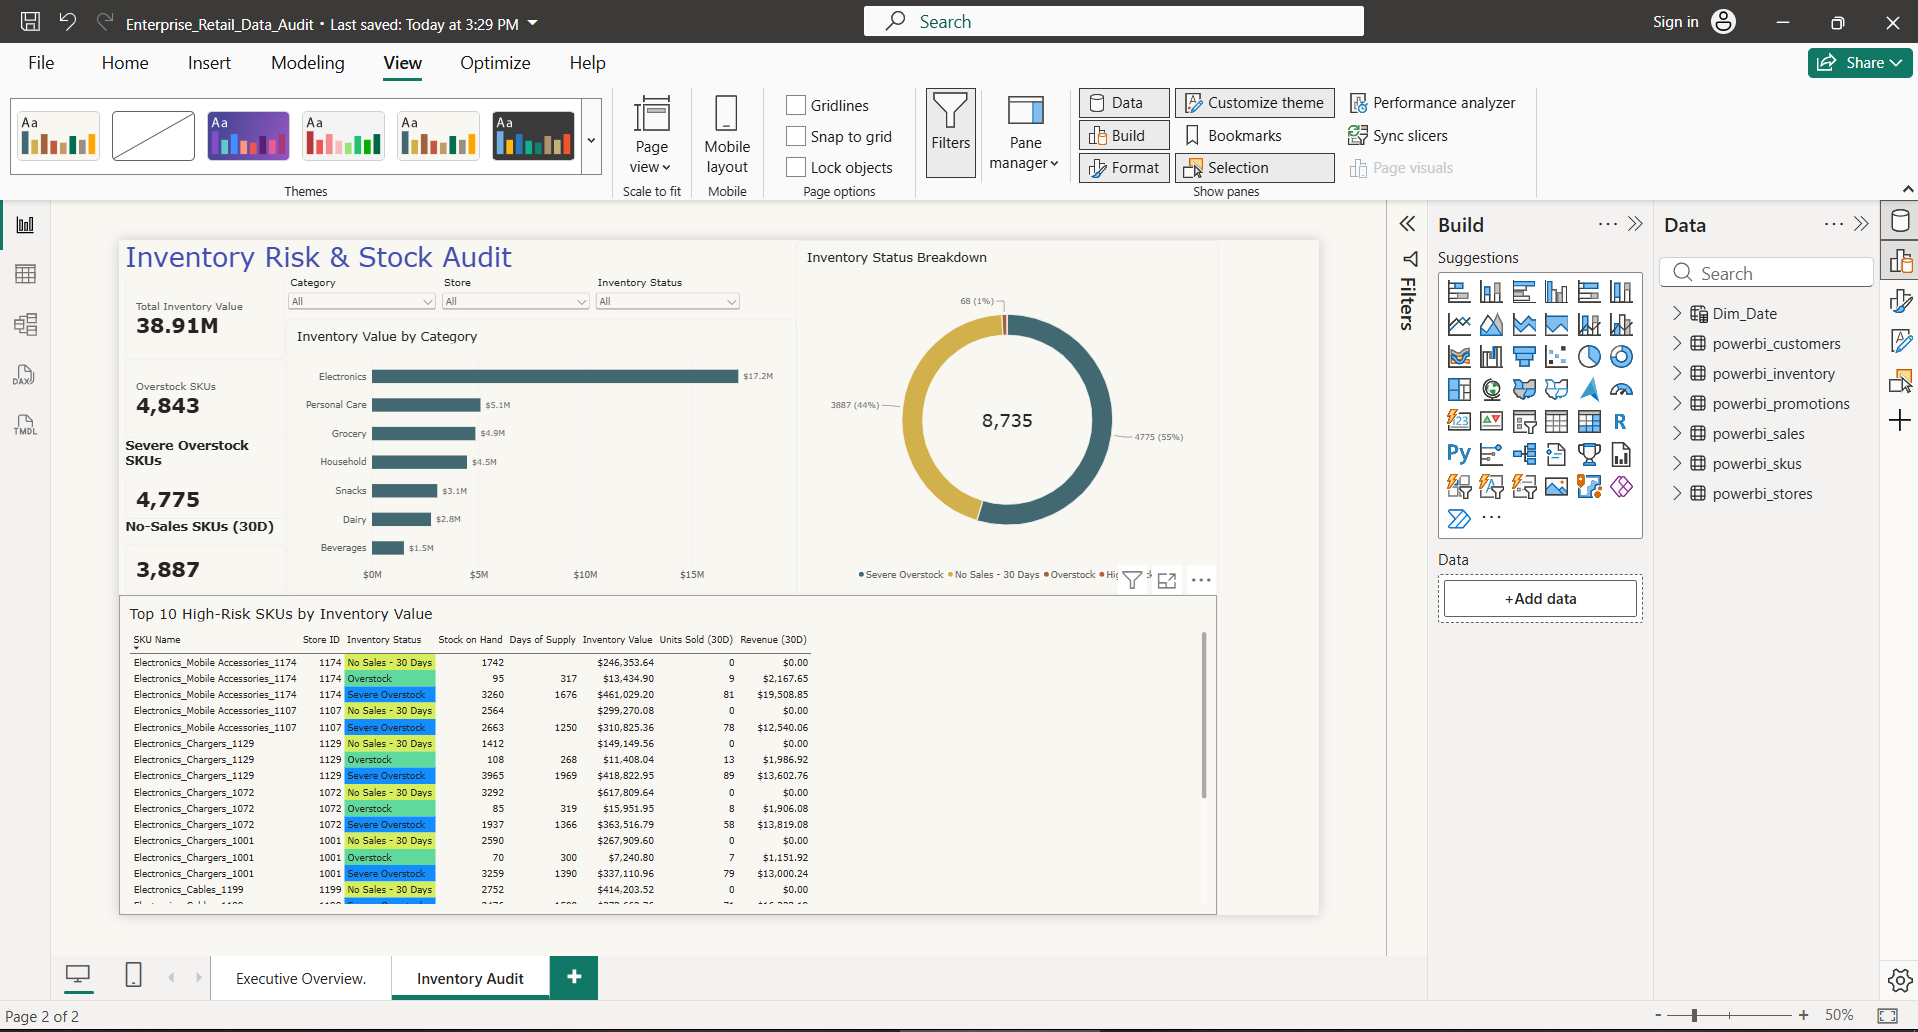

Layout of this report page (visuals, bound fields, positions):
{"tool":"powerbi","page":{"name":"Inventory Audit","canvas":[1920,1080],"ordinal":1},"visuals":[{"type":"textbox","box":[10.8,0,584.3,64.9],"z":0},{"type":"cardVisual","fields":{"Data":["powerbi_sales.Total Inventory Value"]},"box":[10,60,255,130],"z":1000},{"type":"cardVisual","title":"Severe Overstock SKUs","fields":{"Data":["Dim_Date.Severe Overstock Count Full"]},"box":[10,316,256,130],"z":2000},{"type":"cardVisual","title":"No-Sales SKUs (30D)","fields":{"Data":["Dim_Date.No Sales 30 Days Count Full"]},"box":[10,446,256,120],"z":3000},{"type":"cardVisual","fields":{"Data":["Dim_Date.Overstock Count Full"]},"box":[10,190,256,126],"z":4000},{"type":"clusteredBarChart","title":"Inventory Value by Category","fields":{"Category":["powerbi_inventory.category"],"Y":["Sum(powerbi_inventory.inventory_cost_value)"]},"box":[268,126,816,440],"z":5000},{"type":"donutChart","title":"Inventory Status Breakdown","fields":{"Category":["powerbi_inventory.inventory_status"],"Y":["CountNonNull(powerbi_inventory.sku_id)"]},"box":[1083.3,0,675,566.7],"z":6000},{"type":"tableEx","title":"Top 10 High-Risk SKUs by Inventory Value","fields":{"Values":["powerbi_inventory.sku_name","powerbi_inventory.sku_id","powerbi_inventory.inventory_status","Sum(powerbi_inventory.stock_on_hand)","Avg(powerbi_inventory.days_of_supply)","Sum(powerbi_inventory.inventory_cost_value)","Sum(powerbi_inventory.units_sold_30d)","Sum(powerbi_inventory.revenue_30d)"]},"box":[0,568.3,1758.3,511.7],"z":7000},{"type":"slicer","fields":{"Values":["powerbi_inventory.category"]},"box":[266,58,246,68],"z":9000},{"type":"slicer","fields":{"Values":["powerbi_inventory.store_id"]},"box":[512,58,246,68],"z":10000},{"type":"slicer","fields":{"Values":["powerbi_inventory.inventory_status"]},"box":[758,58,240,68],"z":11000}]}

Visuals, with their boxes on the page's 1920x1080 design canvas (x1, y1, x2, y2). These are canvas units, not pixel positions in the 1918x1032 screenshot, which may show the page scaled, cropped or inside an application window:
textbox: (11,0,595,65)
cardVisual - powerbi_sales.Total Inventory Value: (10,60,265,190)
"Severe Overstock SKUs" cardVisual: (10,316,266,446)
"No-Sales SKUs (30D)" cardVisual: (10,446,266,566)
cardVisual - Dim_Date.Overstock Count Full: (10,190,266,316)
"Inventory Value by Category" clusteredBarChart: (268,126,1084,566)
"Inventory Status Breakdown" donutChart: (1083,0,1758,567)
"Top 10 High-Risk SKUs by Inventory Value" tableEx: (0,568,1758,1080)
slicer - powerbi_inventory.category: (266,58,512,126)
slicer - powerbi_inventory.store_id: (512,58,758,126)
slicer - powerbi_inventory.inventory_status: (758,58,998,126)
